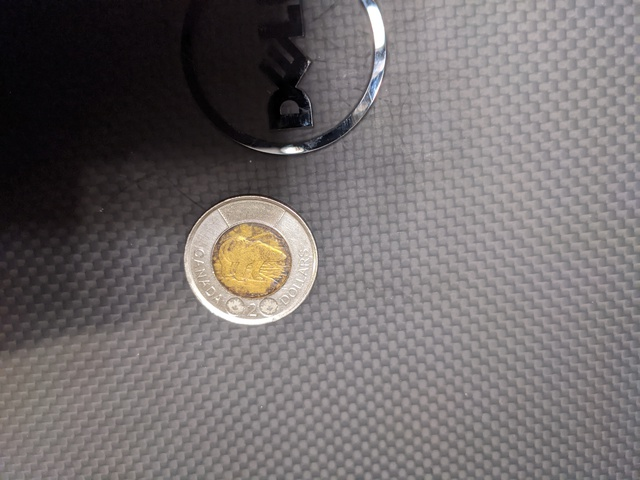twonie: (182, 190, 327, 337)
